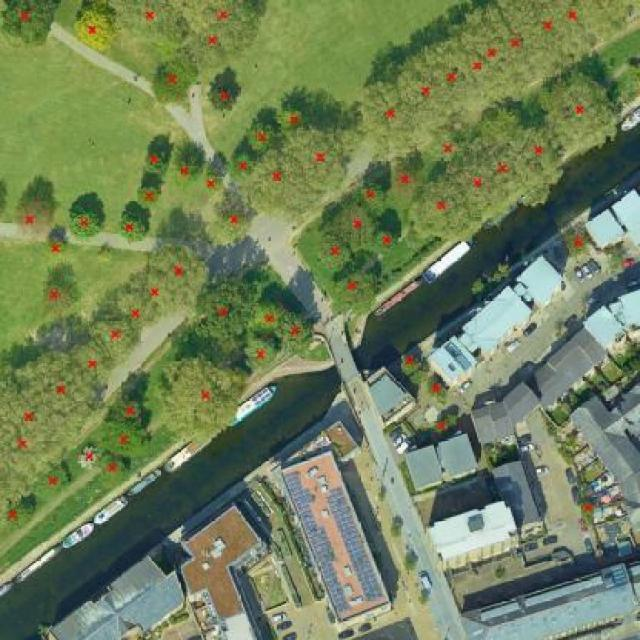tree: (153, 356, 253, 450), (0, 418, 83, 514), (542, 65, 624, 159), (186, 268, 266, 362), (232, 144, 323, 221), (1, 373, 87, 453), (15, 351, 103, 423), (279, 125, 359, 200), (405, 178, 477, 250), (508, 0, 581, 71), (552, 0, 637, 57), (354, 75, 418, 149), (466, 4, 509, 111), (445, 17, 490, 118), (391, 48, 446, 130), (429, 28, 476, 123), (497, 0, 540, 98), (106, 0, 191, 49), (145, 241, 216, 299), (179, 21, 253, 73), (0, 0, 65, 54), (129, 266, 193, 320), (183, 0, 269, 40), (66, 2, 125, 58), (456, 148, 498, 226), (94, 418, 158, 469), (90, 309, 145, 368), (145, 52, 197, 114), (324, 199, 381, 253), (479, 95, 530, 154), (478, 141, 527, 202), (383, 152, 434, 210), (66, 339, 120, 393), (325, 269, 383, 318), (9, 193, 60, 245), (30, 275, 84, 324), (24, 460, 79, 506), (425, 121, 470, 177), (113, 287, 169, 330), (278, 307, 319, 362), (311, 230, 357, 279), (64, 193, 108, 244), (201, 79, 247, 122), (522, 125, 563, 173), (351, 179, 392, 225), (241, 332, 282, 377), (240, 116, 282, 158), (168, 146, 207, 191), (217, 203, 258, 245), (114, 203, 154, 246), (249, 293, 286, 339), (1, 495, 41, 537), (94, 453, 134, 493), (106, 392, 148, 426), (272, 102, 317, 133), (196, 166, 233, 203), (559, 225, 596, 262), (226, 149, 260, 186), (138, 146, 174, 179), (205, 218, 236, 251), (132, 183, 166, 212), (424, 373, 451, 409), (396, 345, 427, 376), (37, 235, 75, 260), (75, 442, 103, 475), (375, 231, 406, 260), (575, 497, 600, 523), (430, 419, 456, 442), (409, 362, 428, 390), (386, 521, 406, 542), (400, 559, 420, 579), (412, 594, 434, 612), (445, 410, 461, 428), (376, 486, 390, 506)
